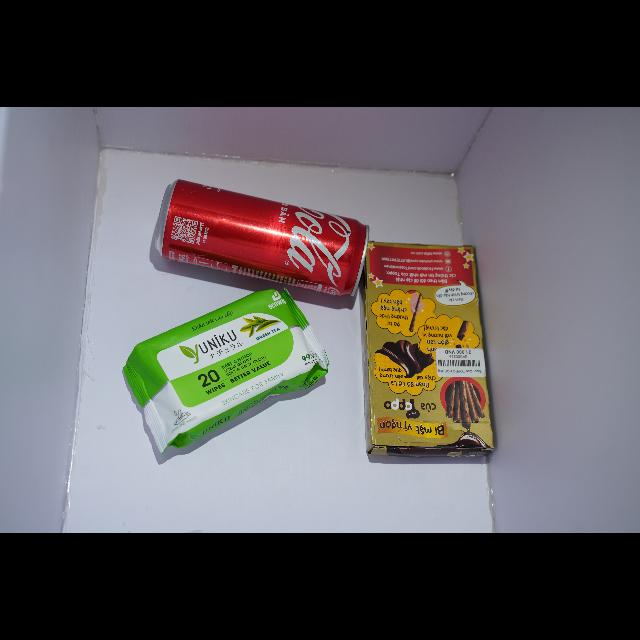banh_toppo_socola: (364, 242, 494, 457)
coca_cola: (156, 180, 369, 296)
khan_giay: (123, 289, 329, 453)
